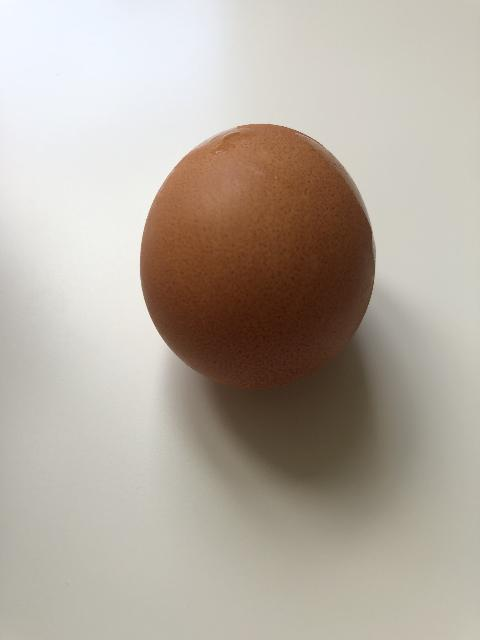Sano: (138, 121, 377, 391)
